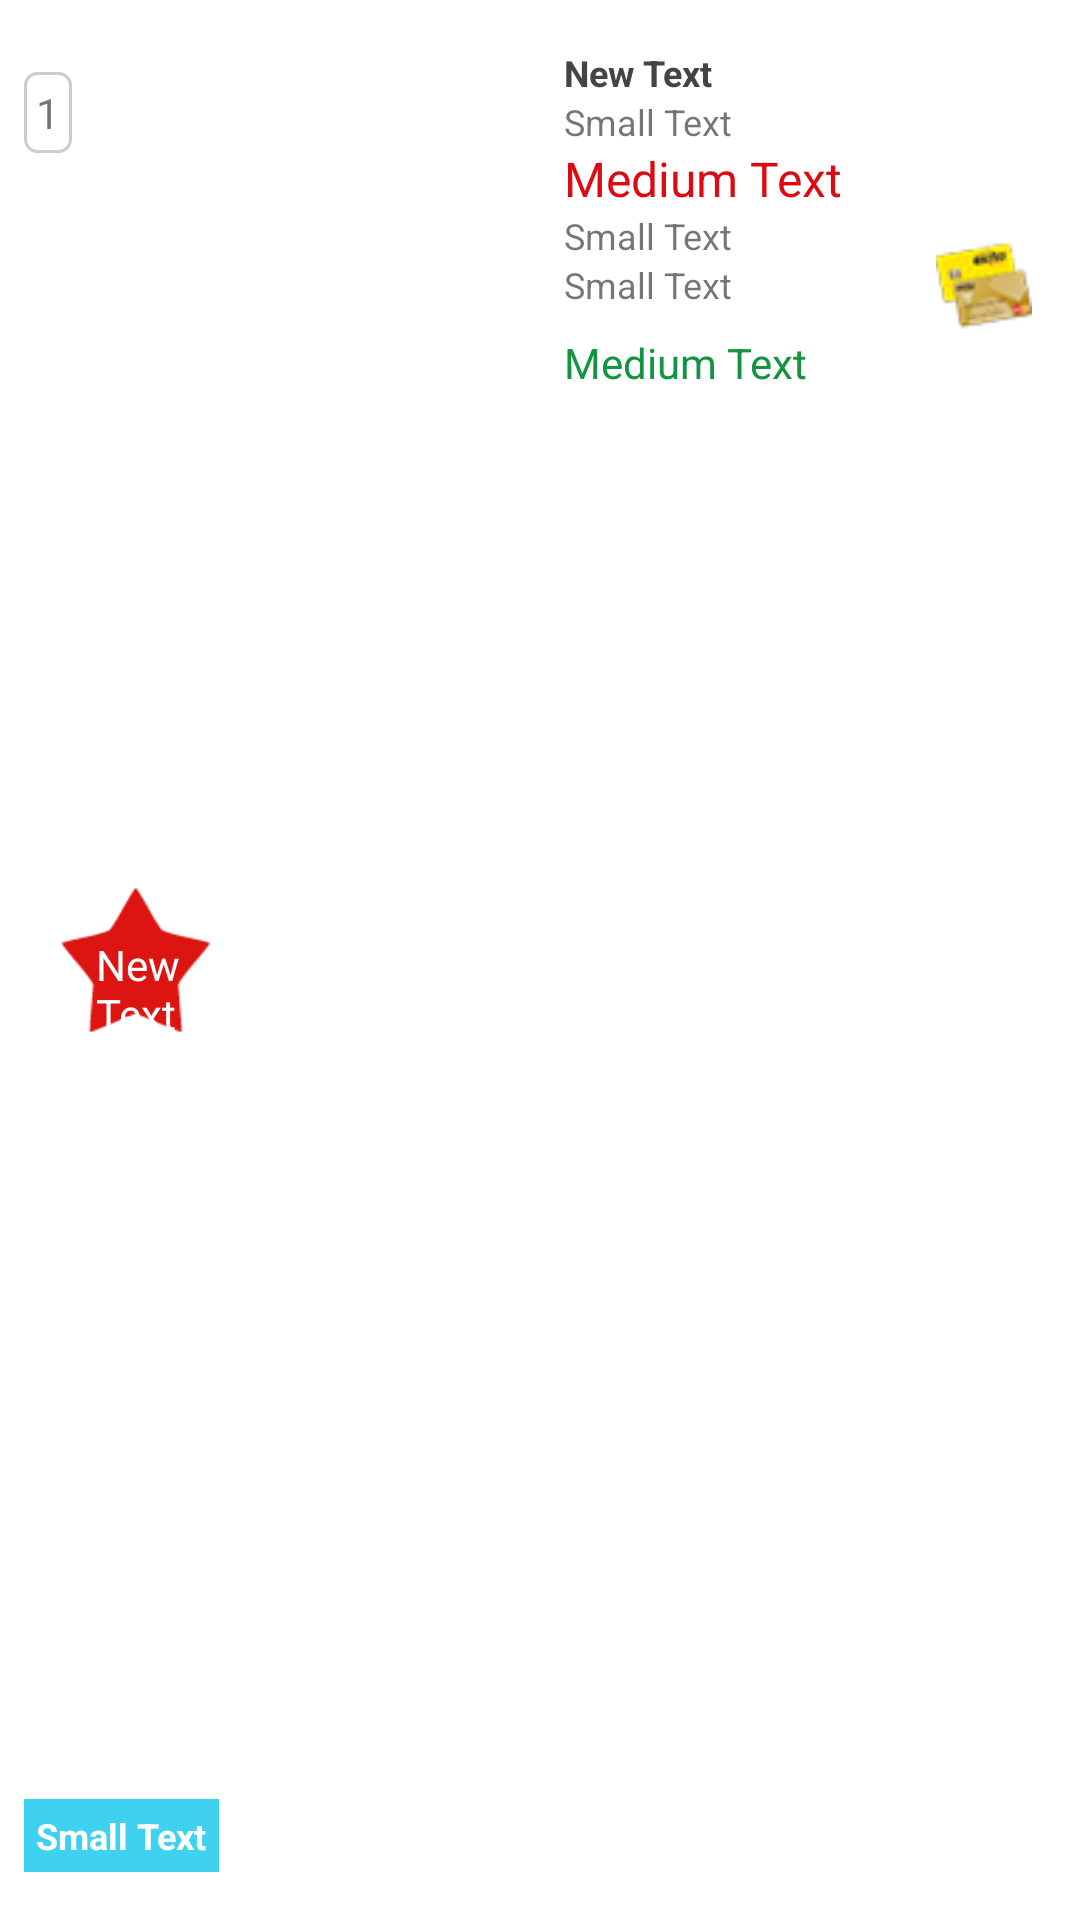

Icons on this 1080 x 1920 Android screen, each with the point to tap as (x=x, y=y):
estrella: (x=135, y=960)
